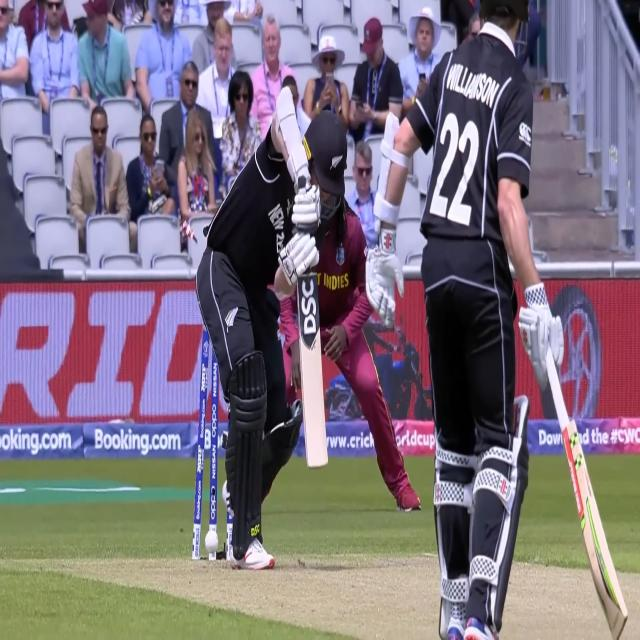ball: (202, 521, 222, 560)
